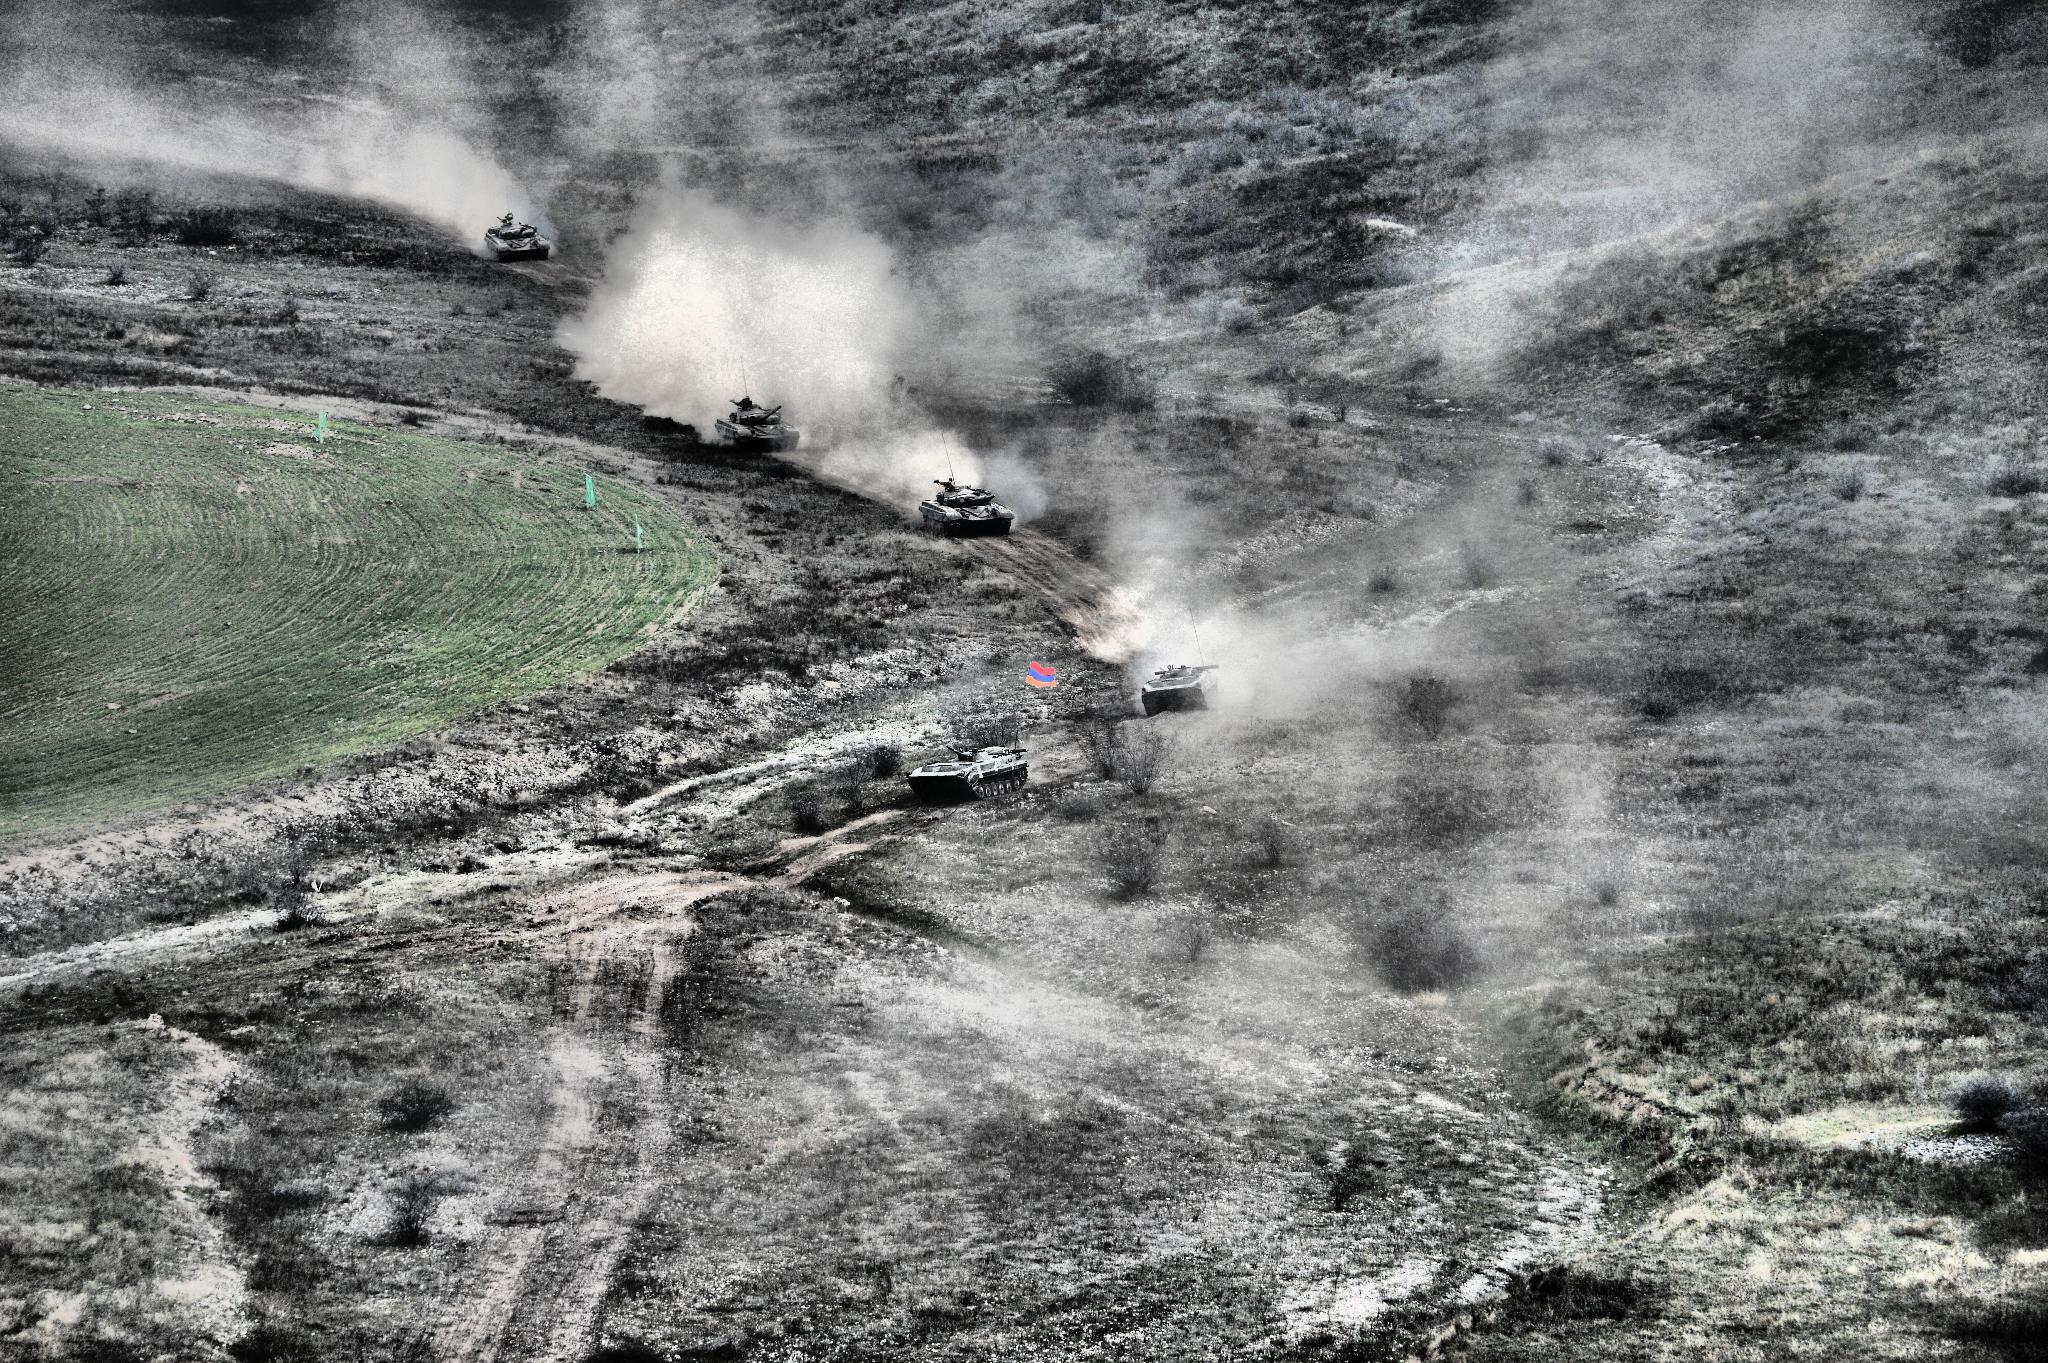military-vehicle: (905, 742, 1029, 802), (918, 472, 1014, 535), (1136, 659, 1230, 720), (715, 397, 798, 450), (482, 213, 546, 260)
